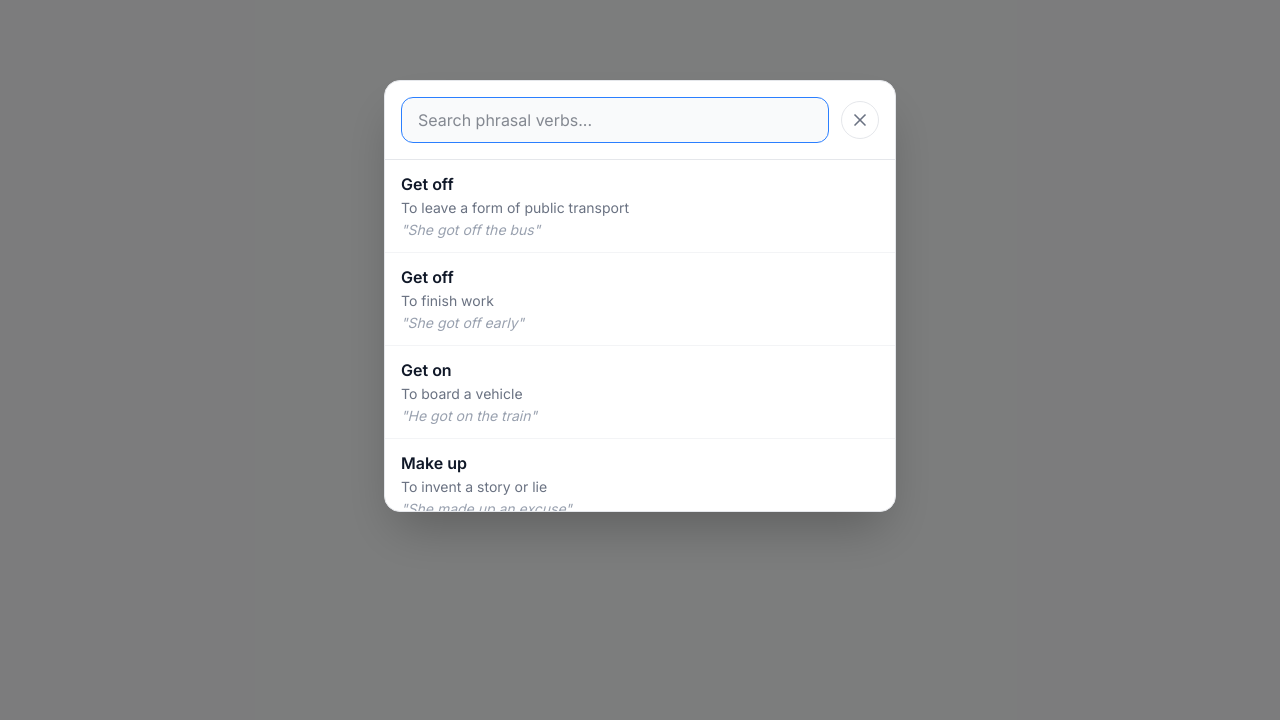
it: ListSearchModal › shows "No matches found" when query has no results
This screenshot has width=1280, height=720.
Type "zzznomatch" into the field with placeholder "Search phrasal verbs..." at point(615, 120), box [401,97,829,143]
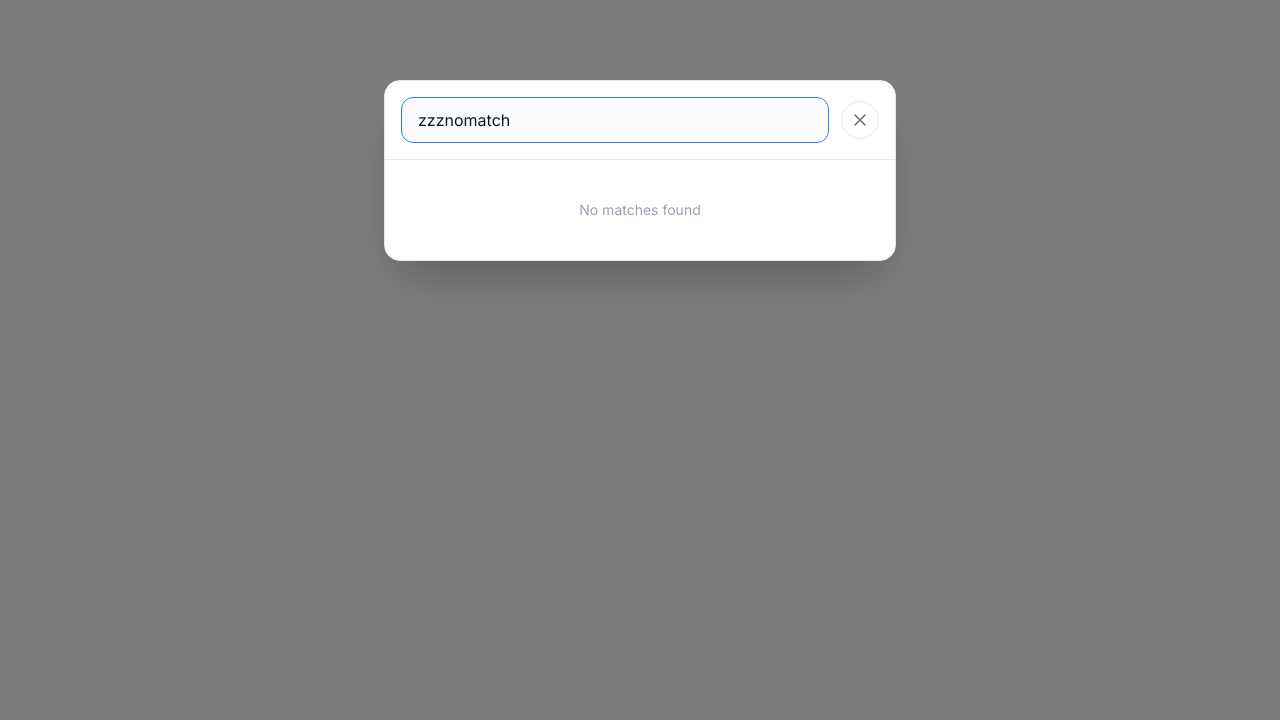
Expected: the text "No matches found" is shown, [579,201,701,218]
